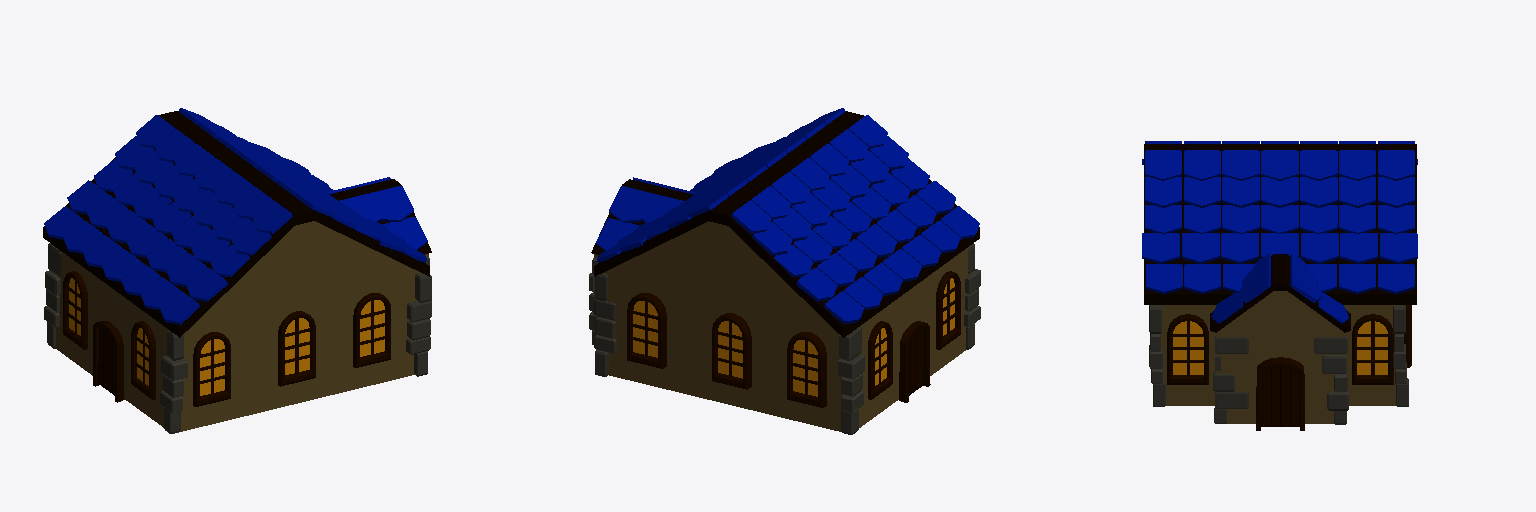
Rendered from House_Level2_BlueTeam.obj.
3 renders of one model, left to right at view 1: azimuth 30°, elevation 25°; view 2: azimuth 150°, elevation 25°; view 3: azimuth 270°, elevation 25°, orthographic.
Visible parts, largest first — view 1: House_Level2_BlueTeam_Cube; view 2: House_Level2_BlueTeam_Cube; view 3: House_Level2_BlueTeam_Cube.
Boxes of the visible parts, <box> form: House_Level2_BlueTeam_Cube: <box>43,108,431,433</box>; House_Level2_BlueTeam_Cube: <box>589,108,980,434</box>; House_Level2_BlueTeam_Cube: <box>1142,141,1417,430</box>.
Size of the model in its own units: 19.98 by 12.82 by 15.83.